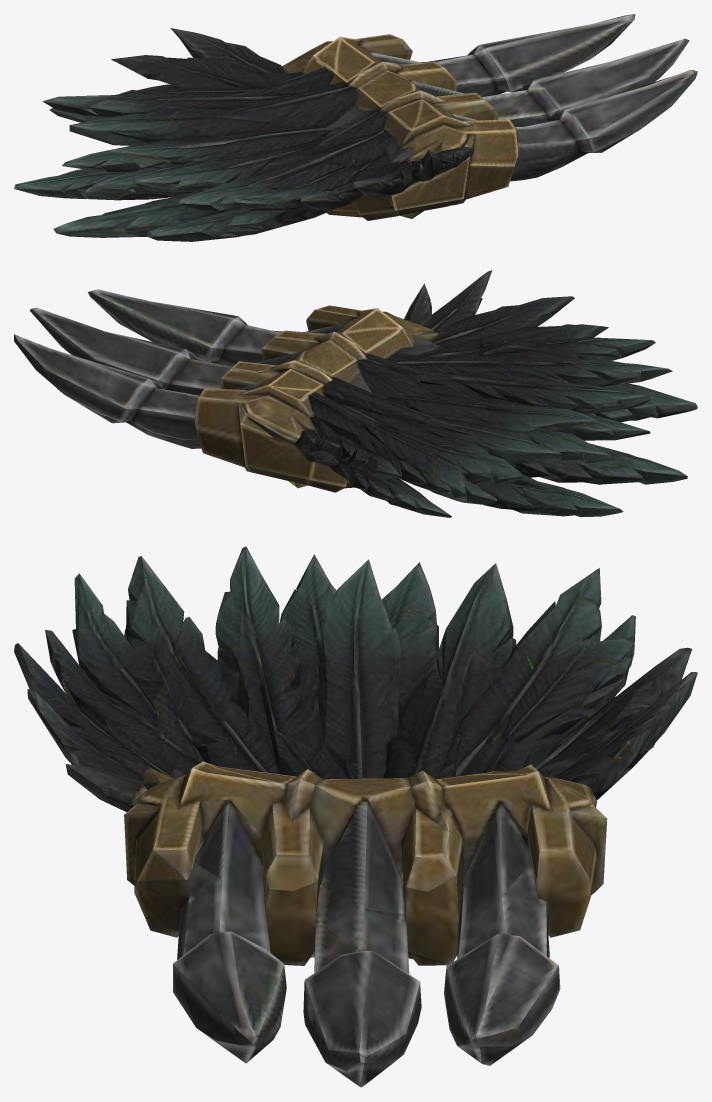
The model's file is ravenclaw_l.glb.
3 views of the same model, one above another, from view 1: azimuth 30°, elevation 25°; view 2: azimuth 150°, elevation 25°; view 3: azimuth 270°, elevation 25° (orthographic). The views are drawn at different scales.
Bounding box in the file's own units: 0.5237 × 0.096 × 0.2944.
Materials: 1 (1 with a texture image).
